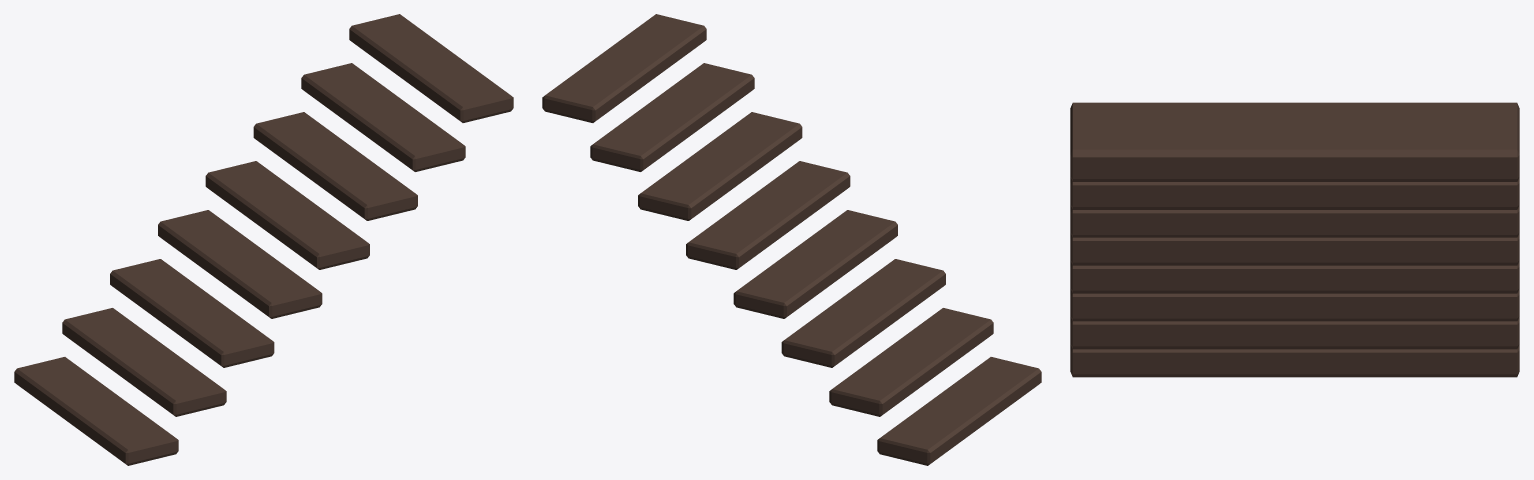
The model's file is Stairs.fbx.
3 renders of one model, left to right at view 1: azimuth 30°, elevation 25°; view 2: azimuth 150°, elevation 25°; view 3: azimuth 270°, elevation 25°, orthographic. The views are drawn at different scales.
Visible parts, largest first — view 1: ColouredHouse.003; view 2: ColouredHouse.003; view 3: ColouredHouse.003.
Boxes of the visible parts, x1,y1,x2,y2 form: ColouredHouse.003: (14, 14, 513, 465); ColouredHouse.003: (542, 14, 1041, 465); ColouredHouse.003: (1070, 102, 1519, 377).
Bounding box in the file's own units: 471 × 321 × 236.
